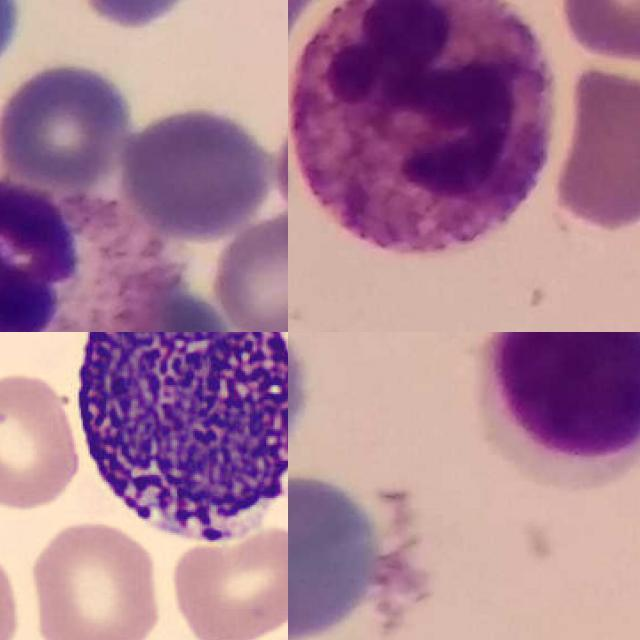Basophil: (60, 332, 288, 555)
Lymphocyte: (467, 332, 640, 491)
Neutrophil: (289, 0, 553, 256), (0, 182, 166, 332)
RBC: (24, 517, 164, 640), (164, 524, 288, 640), (0, 367, 83, 511)
